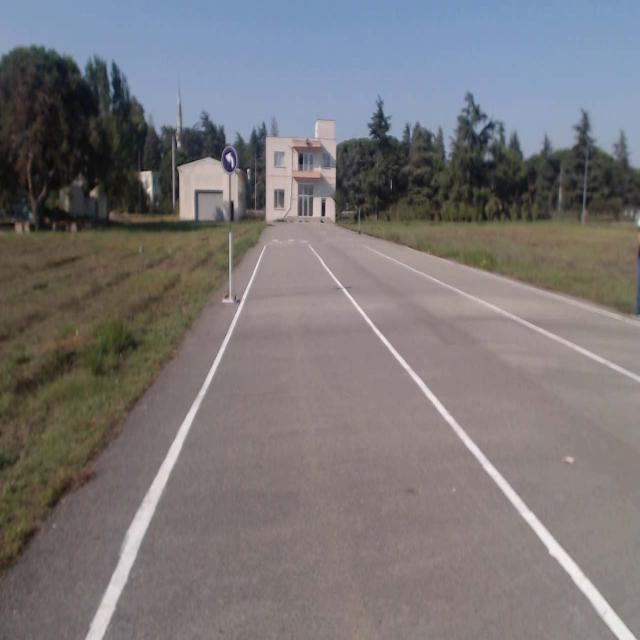sol: (222, 147, 238, 174)
